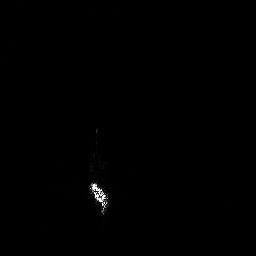ship: (88, 179, 111, 216)
